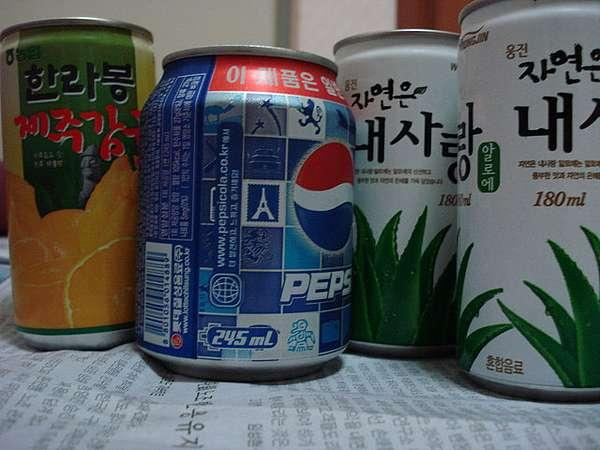metal: (0, 18, 358, 378), (322, 3, 600, 398)
